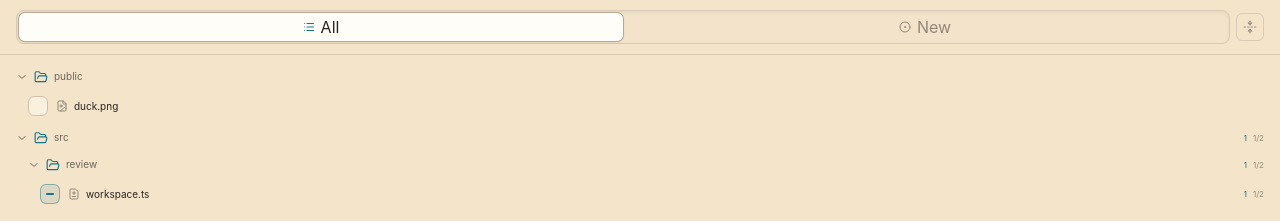
ReviewFilesPanel › expands and collapses every folder from one control
Check: the button "workspace.ts 1 1/2" is shown, box [68, 186, 1264, 202]
Click the button named "Collapse all folders".
click(1250, 27)  # box [1236, 13, 1264, 41]
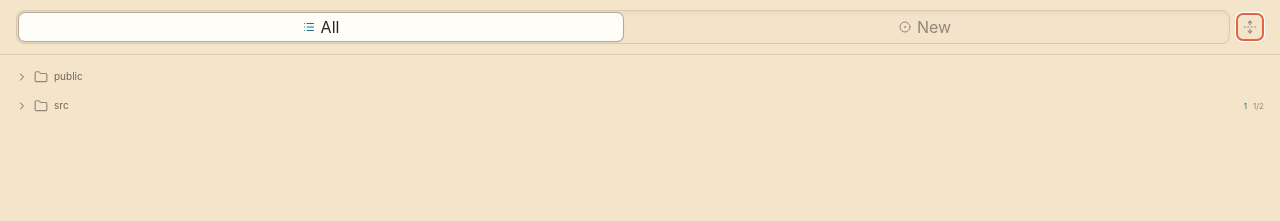
Check: the button "workspace.ts" is gone
Check: the button with aria-label "Expand src" is shown, box [16, 98, 1264, 113]
Check: the button with aria-label "Expand public" is shown, box [16, 69, 1264, 84]
Click the button named "Expand all folders".
click(1250, 27)  # box [1236, 13, 1264, 41]
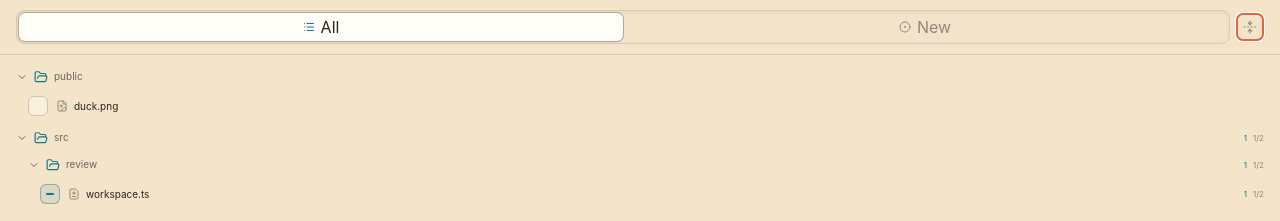
Check: the button "workspace.ts 1 1/2" is shown, box [68, 186, 1264, 202]
